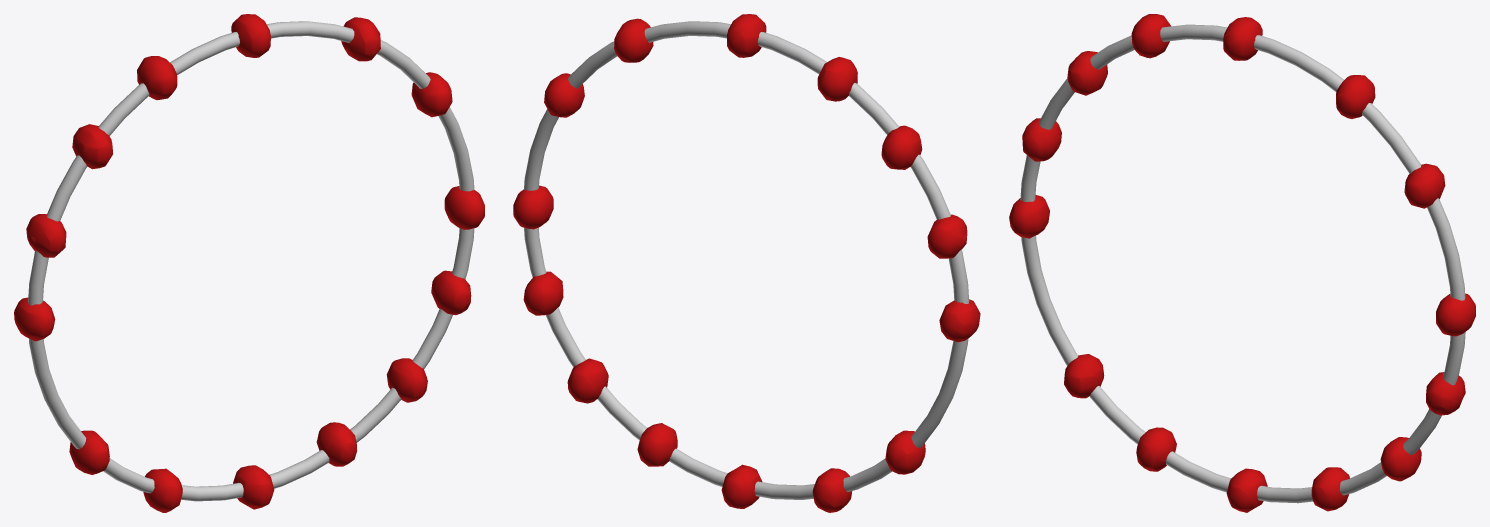
The picture shows the model from 3 angles, left to right: view 1: azimuth 30°, elevation 25°; view 2: azimuth 150°, elevation 25°; view 3: azimuth 330°, elevation 25°; orthographic projection.
Parts seen in each view (by area): view 1: Electron_Mball, Ring_Torus; view 2: Electron_Mball, Ring_Torus; view 3: Electron_Mball, Ring_Torus.
Part boxes in pixels (x1,y1,x2,y2): Electron_Mball: [14, 14, 484, 512]; Ring_Torus: [28, 21, 474, 501]; Electron_Mball: [513, 14, 980, 512]; Ring_Torus: [524, 21, 969, 499]; Electron_Mball: [1009, 14, 1475, 512]; Ring_Torus: [1020, 24, 1465, 503].
Size of the model in its own units: 2.55 by 2.6 by 0.2587.
